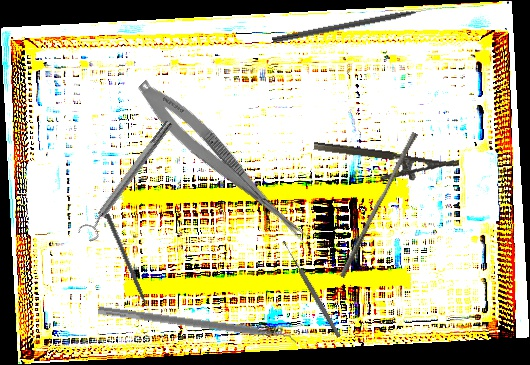Fixation Ring: (75, 116, 180, 244)
Hook Surgical: (271, 3, 443, 45)
Micro Scissor: (129, 74, 320, 249)
Needle Holder: (310, 139, 460, 191)
Pusher: (339, 129, 418, 281), (103, 212, 154, 320)
Spatula Surgical: (96, 305, 298, 349)
Surgical Spoon: (281, 239, 342, 339)
